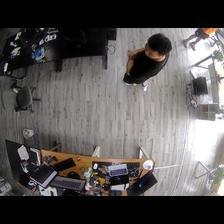normal: (122, 33, 173, 92)
